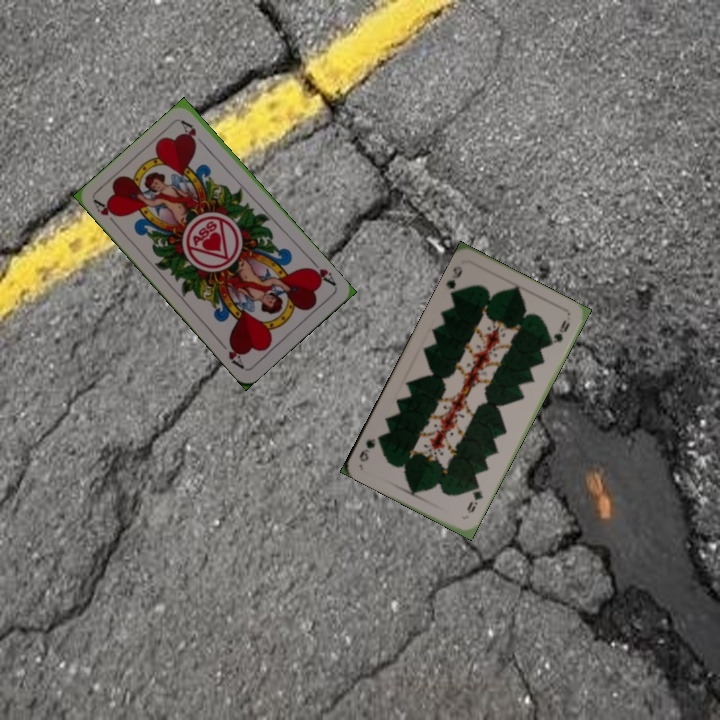G9: (442, 262, 465, 299), (463, 480, 486, 516)
HA: (304, 256, 339, 289), (90, 196, 121, 230)
